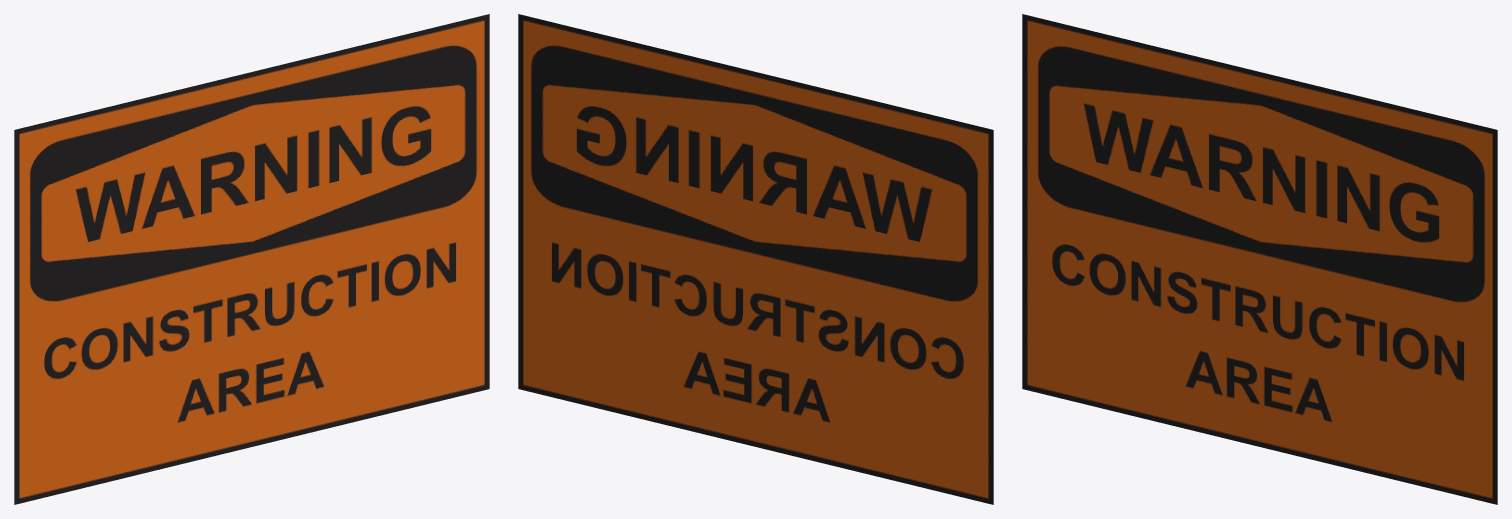
Rendered from warning.glb.
3 renders of one model, left to right at view 1: azimuth 30°, elevation 25°; view 2: azimuth 150°, elevation 25°; view 3: azimuth 330°, elevation 25°, orthographic.
Parts seen in each view (by area): view 1: warning; view 2: warning; view 3: warning.
Part boxes in pixels (x1=…): warning: x1=14, y1=14, x2=489, y2=504; warning: x1=518, y1=14, x2=993, y2=504; warning: x1=1022, y1=14, x2=1497, y2=504.
Size of the model in its own units: 1.33 by 1 by 2.22e-16.
Materials: 1 (1 with a texture image).
